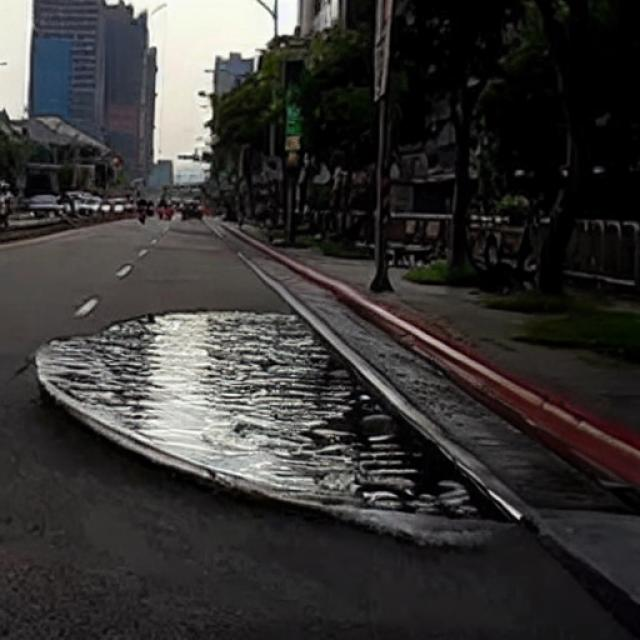puddle: (37, 309, 515, 529)
